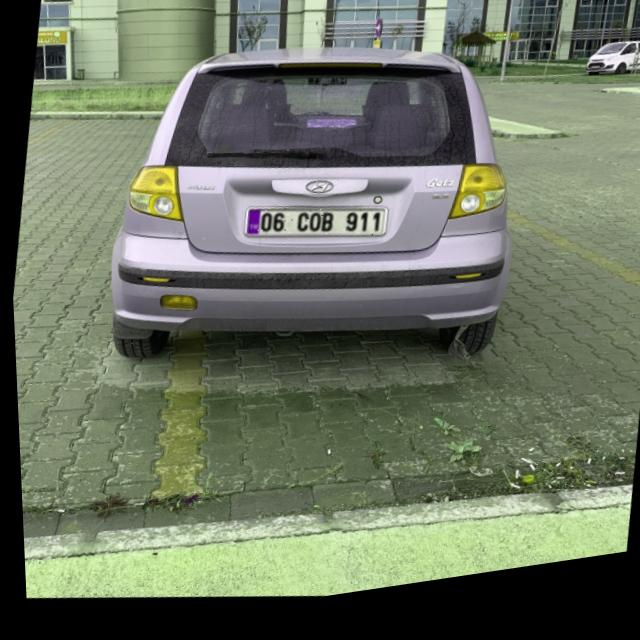license_plate: (243, 200, 384, 262)
